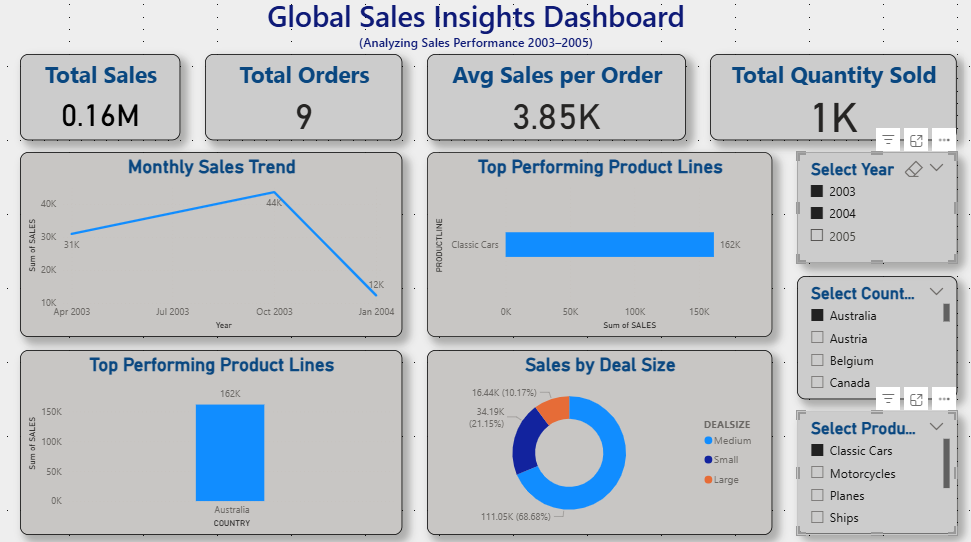

What the dashboard file says about the page in this screenshot:
{"tool":"powerbi","page":{"name":"Page 1","canvas":[1280,720],"ordinal":0},"visuals":[{"type":"textbox","box":[0,0,1248,80],"z":0},{"type":"card","title":"Total Sales","fields":{"Values":["Sum(sales_data_sample.SALES)"]},"box":[32,80,208,112],"z":1000},{"type":"card","title":"Total Orders","fields":{"Values":["Count(sales_data_sample.ORDERNUMBER)"]},"box":[272,80,256,112],"z":2000},{"type":"card","title":"Avg Sales per Order","fields":{"Values":["Avg(sales_data_sample.SALES)"]},"box":[560,80,336,112],"z":3000},{"type":"card","title":"Total Quantity Sold","fields":{"Values":["Sum(sales_data_sample.QUANTITYORDERED)"]},"box":[928,80,320,112],"z":4000},{"type":"lineChart","title":"Monthly Sales Trend","fields":{"Category":["sales_data_sample.ORDERDATE.Variation.Date Hierarchy.Year","sales_data_sample.ORDERDATE.Variation.Date Hierarchy.Quarter","sales_data_sample.ORDERDATE.Variation.Date Hierarchy.Month","sales_data_sample.ORDERDATE.Variation.Date Hierarchy.Day"],"Y":["Sum(sales_data_sample.SALES)"]},"box":[32,208,496,240],"z":5000},{"type":"clusteredBarChart","title":"Top Performing Product Lines","fields":{"Category":["sales_data_sample.PRODUCTLINE"],"Y":["Sum(sales_data_sample.SALES)"]},"box":[560,208,448,240],"z":6000},{"type":"clusteredColumnChart","title":"Top Performing Product Lines","fields":{"Category":["sales_data_sample.COUNTRY"],"Y":["Sum(sales_data_sample.SALES)"]},"box":[32,464,496,240],"z":7000},{"type":"donutChart","title":"Sales by Deal Size","fields":{"Category":["sales_data_sample.DEALSIZE"],"Y":["Sum(sales_data_sample.SALES)"]},"box":[560,464,448,240],"z":8000},{"type":"slicer","title":"Total Sales","fields":{"Values":["sales_data_sample.YEAR_ID"]},"box":[1040,208,208,144],"z":9000},{"type":"slicer","title":"Total Sales","fields":{"Values":["sales_data_sample.COUNTRY"]},"box":[1040,368,208,160],"z":10000},{"type":"slicer","title":"Total Sales","fields":{"Values":["sales_data_sample.PRODUCTLINE"]},"box":[1040,544,208,160],"z":11000}]}

Visuals, with their boxes in screenshot pixels (x1, y1, x2, y2), scaled from the page's 1280x720 canvas onto the 971x542 screenshot:
textbox: l=0, t=0, r=947, b=60
"Total Sales" card: l=24, t=60, r=182, b=145
"Total Orders" card: l=206, t=60, r=401, b=145
"Avg Sales per Order" card: l=425, t=60, r=680, b=145
"Total Quantity Sold" card: l=704, t=60, r=947, b=145
"Monthly Sales Trend" lineChart: l=24, t=157, r=401, b=337
"Top Performing Product Lines" clusteredBarChart: l=425, t=157, r=765, b=337
"Top Performing Product Lines" clusteredColumnChart: l=24, t=349, r=401, b=530
"Sales by Deal Size" donutChart: l=425, t=349, r=765, b=530
"Total Sales" slicer: l=789, t=157, r=947, b=265
"Total Sales" slicer: l=789, t=277, r=947, b=397
"Total Sales" slicer: l=789, t=410, r=947, b=530
